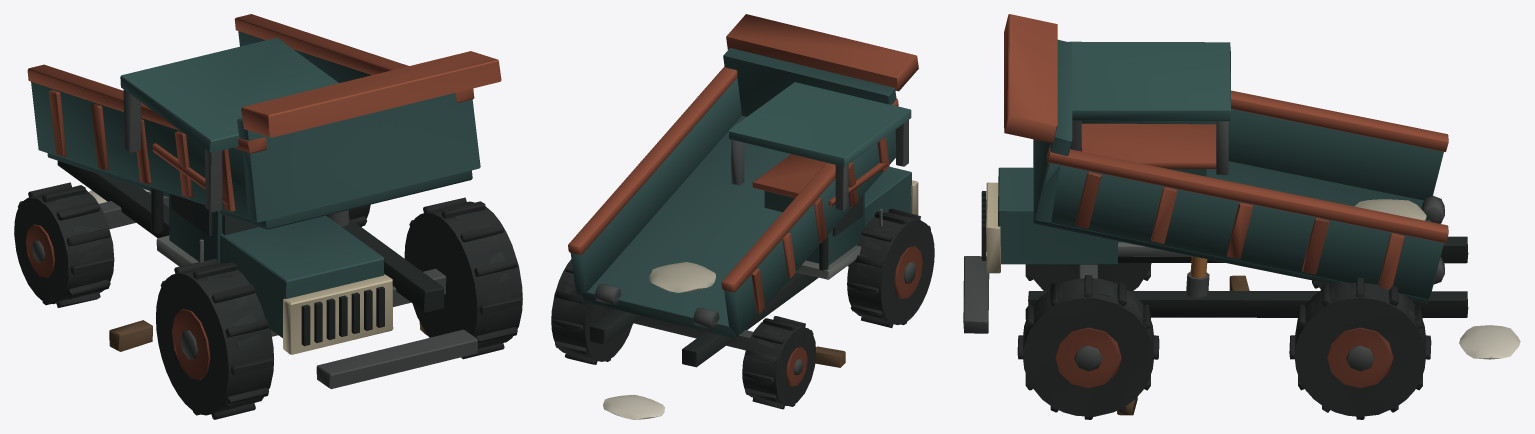
Rendered from haul_truck_a_lod1.glb.
3 views of the same model, side by side, from view 1: azimuth 30°, elevation 25°; view 2: azimuth 150°, elevation 25°; view 3: azimuth 270°, elevation 25° (orthographic). The views are drawn at different scales.
Visible parts, largest first — view 1: Surface.001; view 2: Surface.001; view 3: Surface.001.
Part boxes in pixels (x1,y1,x2,y2): Surface.001: (14,14,522,419); Surface.001: (551,14,934,419); Surface.001: (963,14,1520,419).
Bounding box in the file's own units: 7.32 × 7.49 × 12.91.
